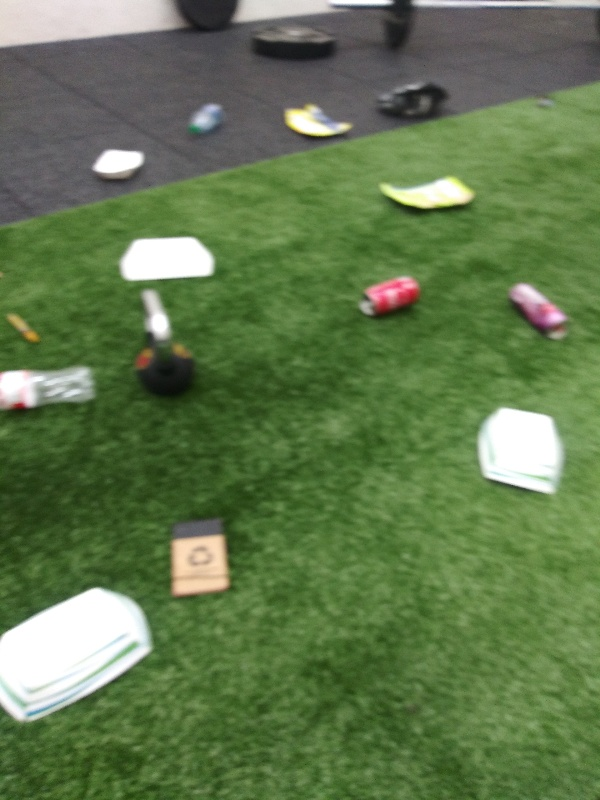bag: (374, 173, 478, 218), (281, 97, 360, 144)
bottle: (1, 363, 100, 418), (183, 98, 230, 142)
can: (502, 279, 572, 345), (355, 271, 424, 320)
plate: (1, 582, 157, 726), (469, 401, 568, 498), (113, 233, 215, 287), (87, 144, 152, 187)
